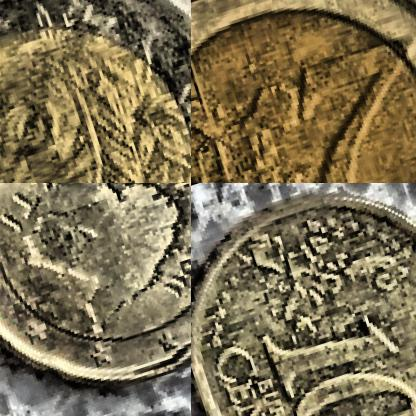coin: (191, 183, 415, 415), (0, 183, 190, 415), (191, 0, 415, 182), (0, 0, 190, 182)
